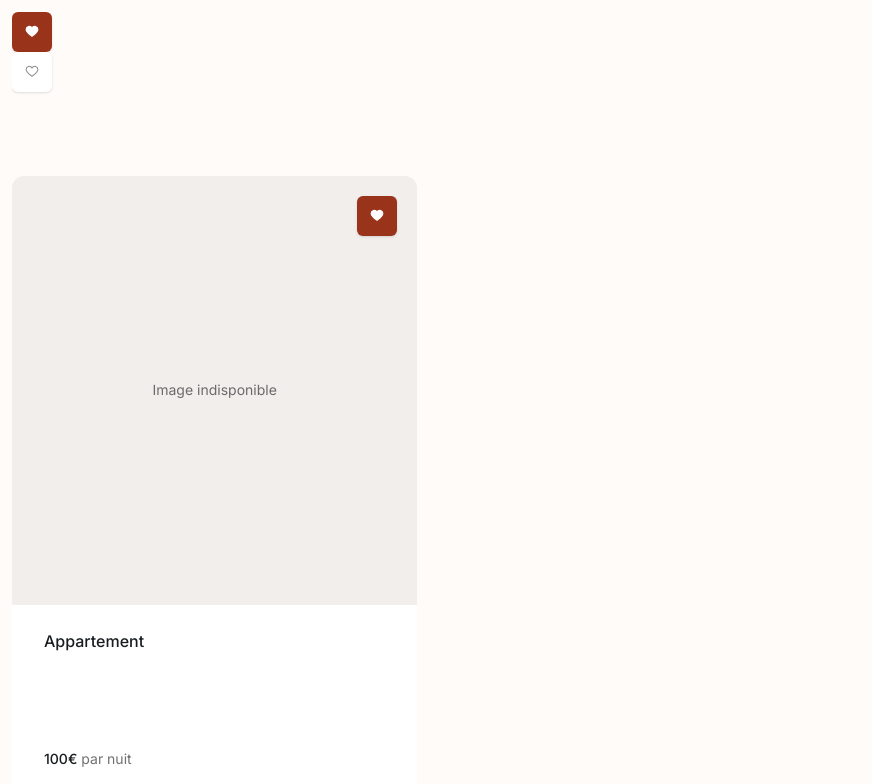
favoris locaux › ajoute un favori en conservant les favoris déjà enregistrés
Click the button named "Ajouter Chalet aux favoris" at (32, 72), box top-left (12, 52), bottom-right (52, 92)
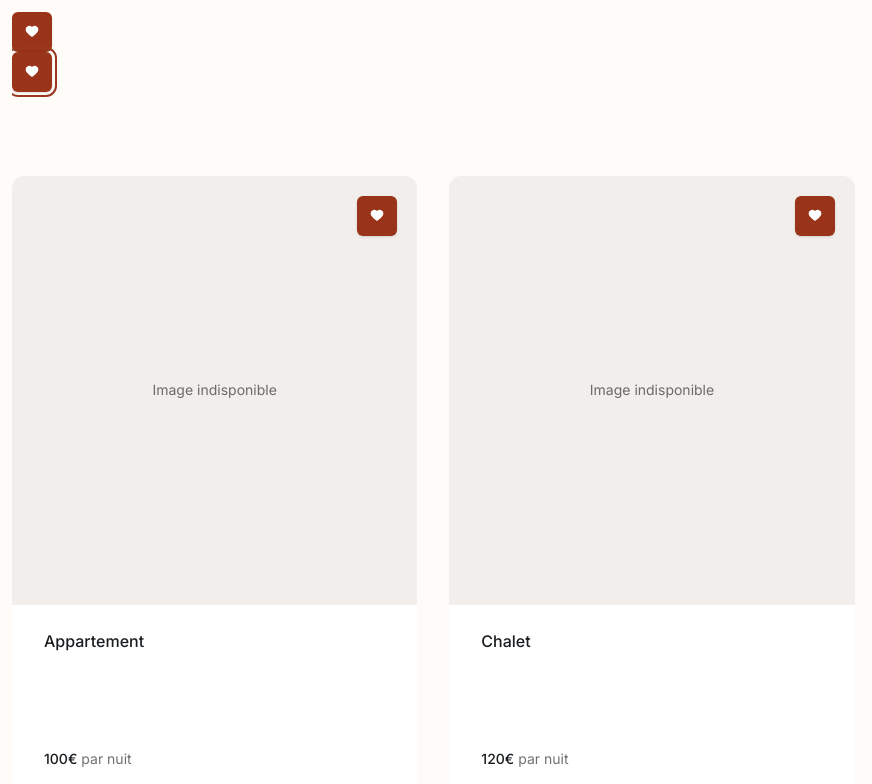
Expected: the heading "Appartement" is shown, top-left (44, 631), bottom-right (144, 651)
Expected: the heading "Chalet" is shown, top-left (481, 631), bottom-right (531, 651)
